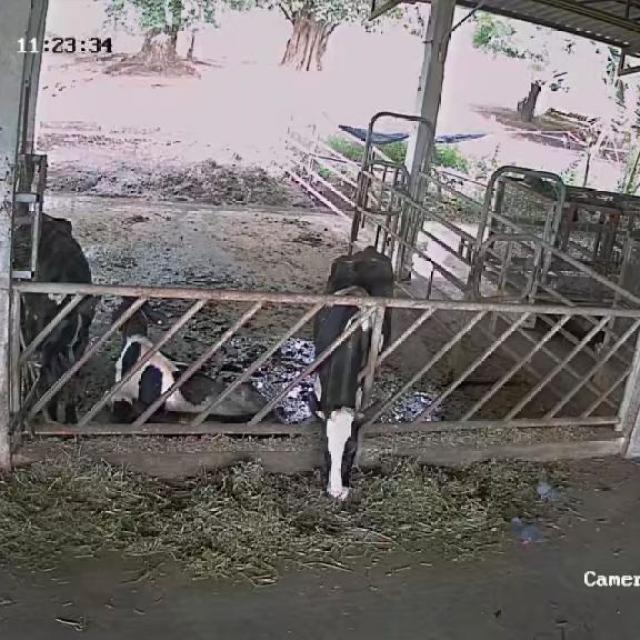feeding: (299, 247, 400, 521)
lying down: (102, 292, 280, 437)
standing: (2, 200, 102, 429)
